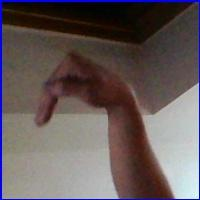del: (34, 44, 129, 133)
